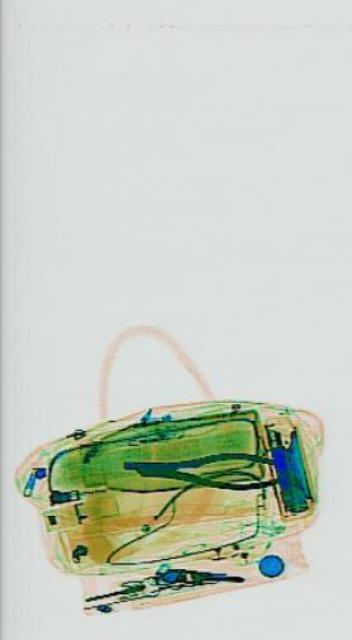Pliers: (122, 441, 274, 489)
